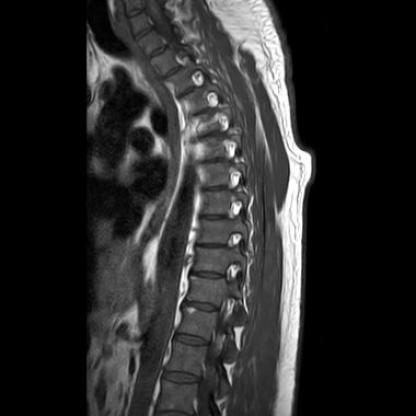Disc Protrusionrotation: (183, 86, 218, 114), (196, 127, 230, 142)
